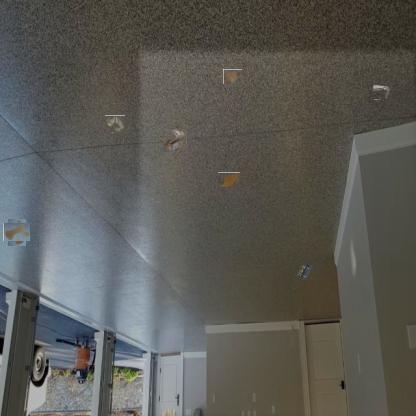dirty: (163, 129, 187, 151), (297, 261, 315, 280), (106, 115, 125, 133), (371, 82, 389, 100), (223, 69, 242, 84)
liquid: (6, 221, 28, 244), (218, 172, 240, 187)
